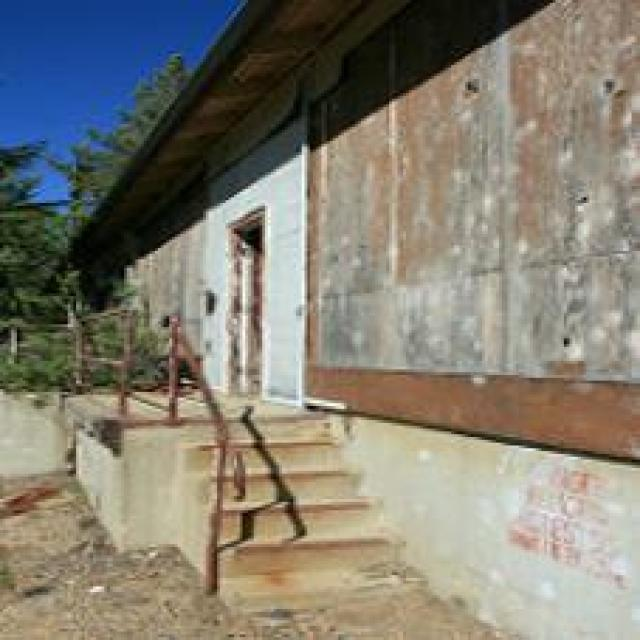upstair: (187, 384, 404, 565)
